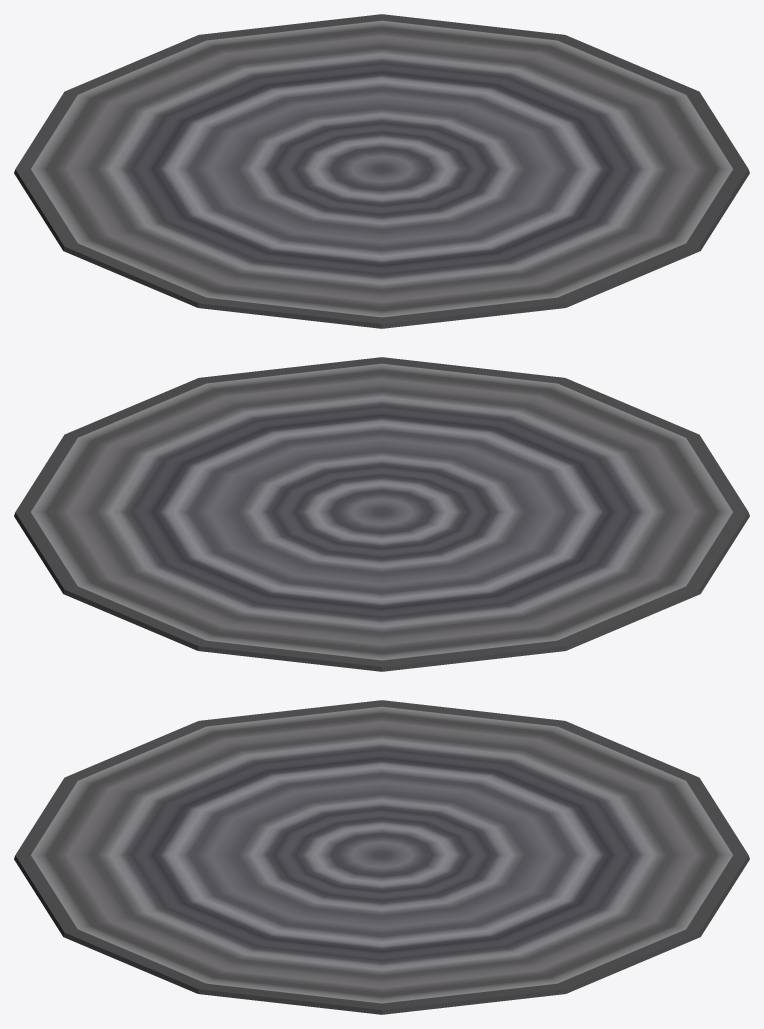
File: rug4.glb
3 views of the same model, one above another, from view 1: azimuth 30°, elevation 25°; view 2: azimuth 150°, elevation 25°; view 3: azimuth 270°, elevation 25° (orthographic).
Visible parts, largest first — view 1: SM_Prop_Rug_Circle_01; view 2: SM_Prop_Rug_Circle_01; view 3: SM_Prop_Rug_Circle_01.
Boxes of the visible parts, x1,y1,x2,y2 form: SM_Prop_Rug_Circle_01: (14,14,749,328); SM_Prop_Rug_Circle_01: (14,357,749,671); SM_Prop_Rug_Circle_01: (14,700,749,1014).
Size of the model in its own units: 3.8 by 0.0243 by 3.8.
1 material, 1 textured.
